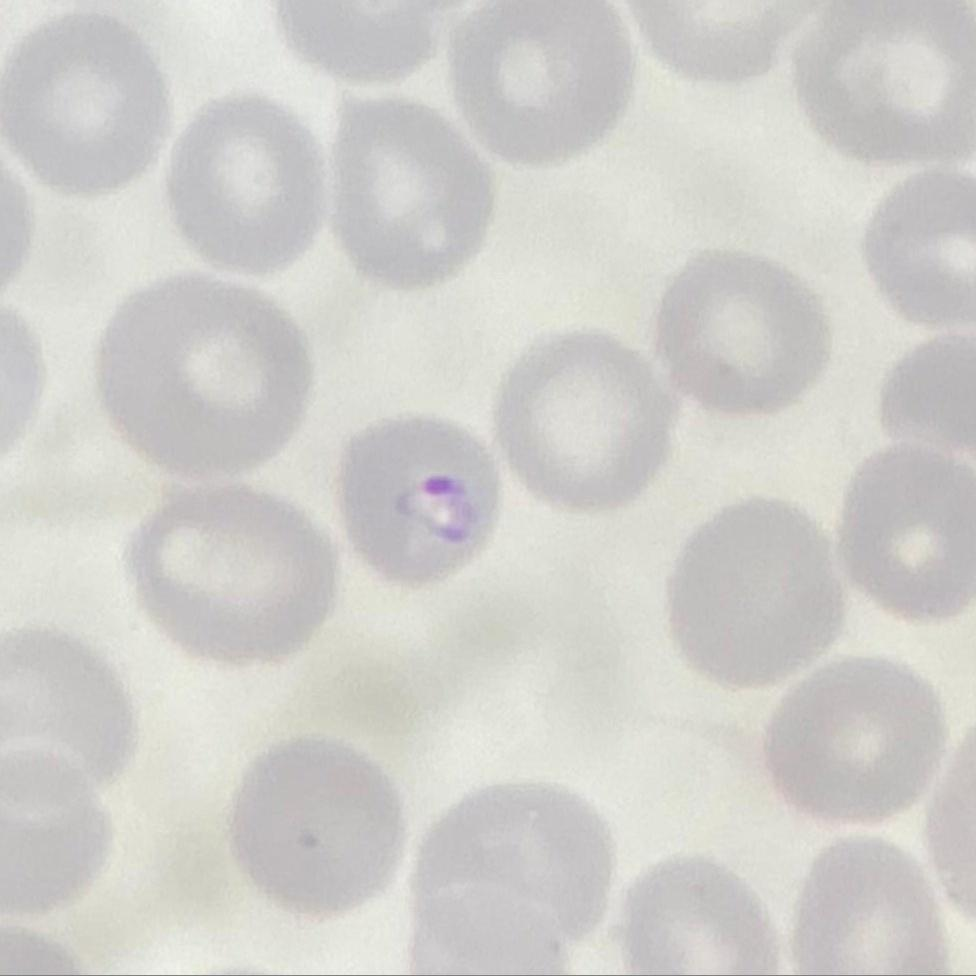Infected: (338, 411, 502, 595)
Uninfected: (95, 276, 308, 483), (122, 486, 332, 665), (417, 778, 604, 962), (328, 86, 498, 284), (493, 326, 671, 511), (785, 0, 976, 168), (448, 1, 643, 161), (665, 503, 837, 683), (2, 16, 172, 193), (235, 741, 404, 917), (762, 656, 942, 821), (173, 96, 321, 284), (660, 253, 831, 415), (0, 621, 136, 811), (838, 443, 976, 620), (798, 831, 942, 976), (0, 741, 111, 918), (615, 855, 774, 976), (868, 171, 976, 326)
